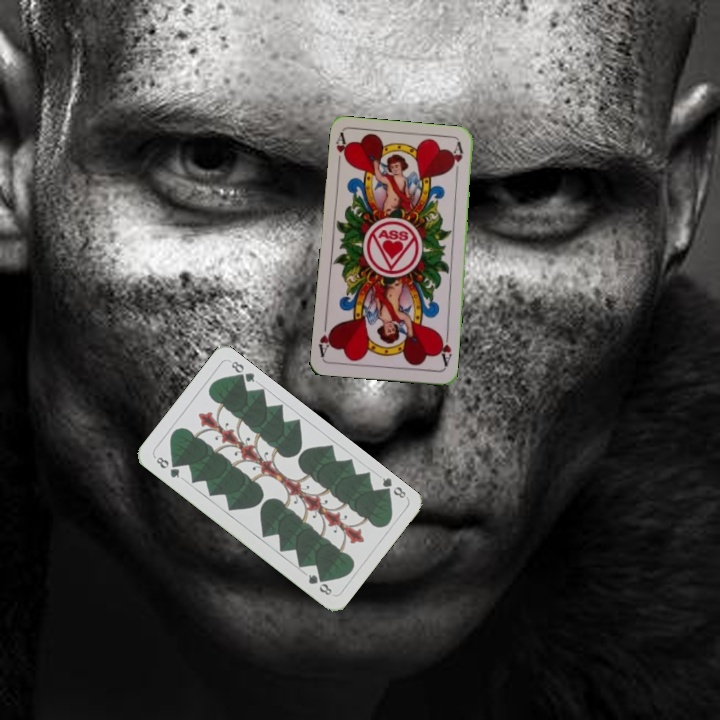G8: (376, 473, 410, 501), (152, 453, 182, 481)
HA: (332, 130, 352, 171), (435, 329, 454, 369)
